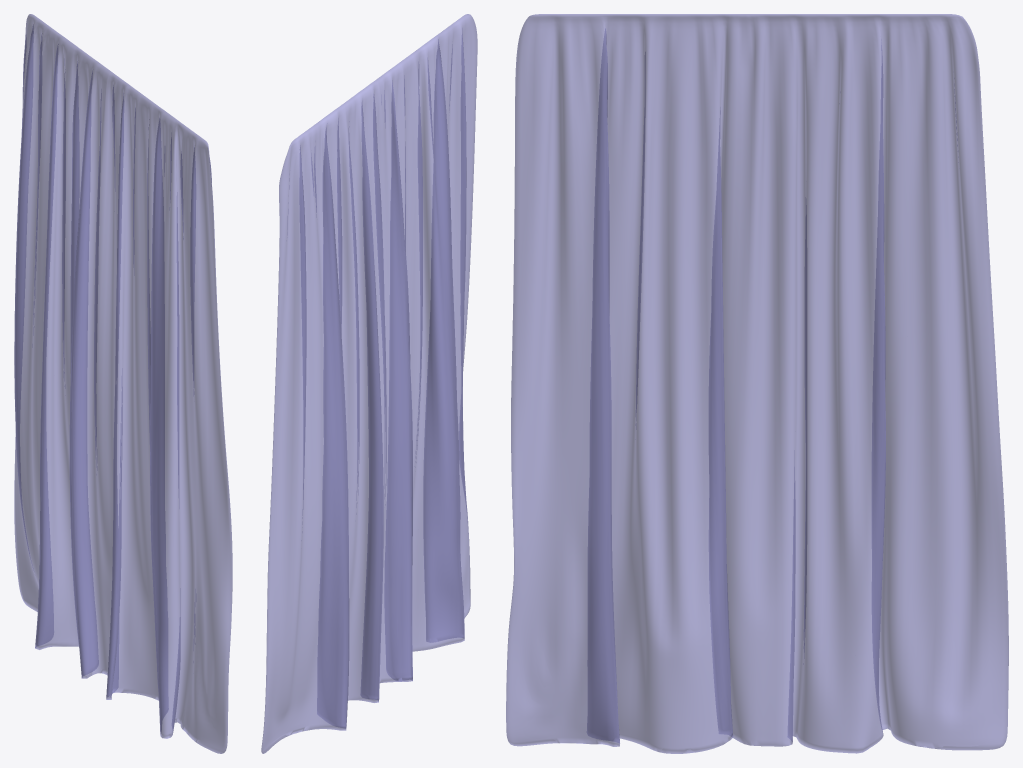
Rendered from curtain3.glb.
3 renders of one model, left to right at view 1: azimuth 30°, elevation 25°; view 2: azimuth 150°, elevation 25°; view 3: azimuth 270°, elevation 25°, orthographic. The views are drawn at different scales.
Visible parts, largest first — view 1: Plane.002; view 2: Plane.002; view 3: Plane.002.
Part boxes in pixels (x1=…): Plane.002: x1=14, y1=14, x2=232, y2=753; Plane.002: x1=261, y1=14, x2=477, y2=753; Plane.002: x1=506, y1=14, x2=1008, y2=753.
Size of the model in its own units: 0.3711 by 5.05 by 3.14.
